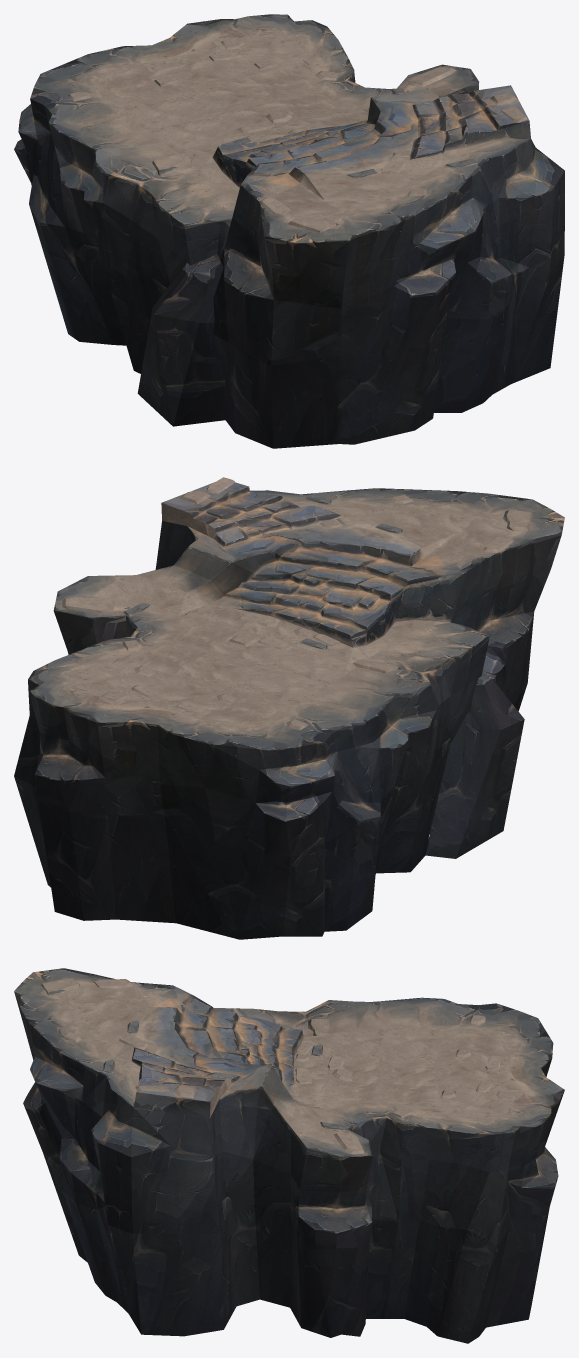
The picture shows the model from 3 angles, top to bottom: view 1: azimuth 30°, elevation 25°; view 2: azimuth 150°, elevation 25°; view 3: azimuth 270°, elevation 25°; orthographic projection. The views are drawn at different scales.
Parts seen in each view (by area): view 1: 58009; view 2: 58009; view 3: 58009.
Part boxes in pixels (bbox=[...]): 58009: bbox=[14, 14, 564, 448]; 58009: bbox=[14, 477, 564, 939]; 58009: bbox=[14, 968, 564, 1343].
Bounding box in the file's own units: 14.32 × 9.56 × 18.6.
Materials: 1 (1 with a texture image).
